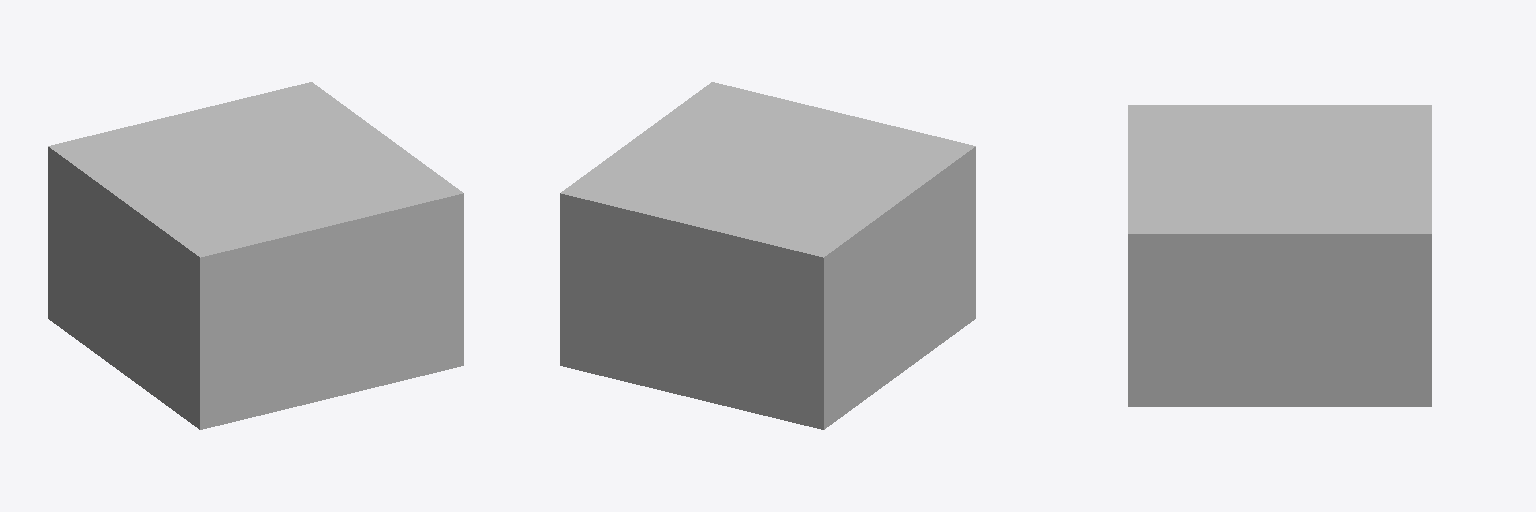
The model's file is salle_3_player2.obj.
3 views of the same model, side by side, from view 1: azimuth 30°, elevation 25°; view 2: azimuth 150°, elevation 25°; view 3: azimuth 270°, elevation 25° (orthographic).
Parts seen in each view (by area): view 1: pPlane2, pPlane3, pasted__pasted__pasted__pPlane2 pasted__pasted__group pasted__gr; view 2: pasted__pPlane2 group4, pPlane3, pasted__pasted__pasted__pPlane2 pasted__pasted__group pasted__gr; view 3: pasted__pPlane2 group3, pPlane3.
Part boxes in pixels (bbox=[...]): pPlane2: bbox=[200, 193, 463, 429]; pPlane3: bbox=[48, 82, 462, 257]; pasted__pasted__pasted__pPlane2 pasted__pasted__group pasted__gr: bbox=[48, 147, 199, 429]; pasted__pPlane2 group4: bbox=[560, 193, 823, 429]; pPlane3: bbox=[561, 82, 975, 257]; pasted__pasted__pasted__pPlane2 pasted__pasted__group pasted__gr: bbox=[824, 147, 975, 429]; pasted__pPlane2 group3: bbox=[1128, 234, 1431, 406]; pPlane3: bbox=[1128, 105, 1431, 233].
Size of the model in its own units: 96 by 60 by 96.